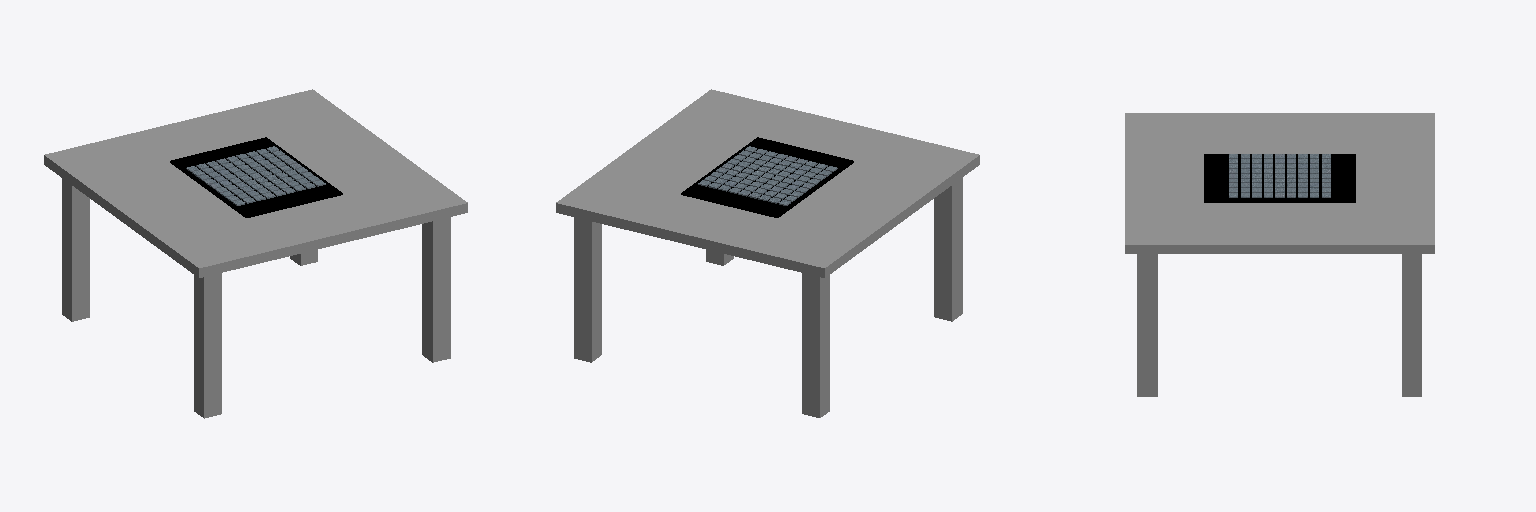
The picture shows the model from 3 angles: view 1: azimuth 30°, elevation 25°; view 2: azimuth 150°, elevation 25°; view 3: azimuth 270°, elevation 25°; orthographic projection.
Parts seen in each view (by area): view 1: Mesh.164_ID1317, Untitled_ID1367, Mesh.167_ID1351, Mesh.166_ID1343, Mesh.163_ID1311, Mesh.165_ID1330; view 2: Mesh.164_ID1317, Mesh.166_ID1343, Mesh.168_ID1359, Mesh.167_ID1351, Mesh.163_ID1311; view 3: Mesh.164_ID1317, Mesh.163_ID1311, Untitled_ID1367, Mesh.168_ID1359.
Part boxes in pixels (x1,y1,x2,y2): Mesh.164_ID1317: (44, 89, 467, 277); Untitled_ID1367: (422, 217, 450, 362); Mesh.167_ID1351: (194, 273, 221, 418); Mesh.166_ID1343: (62, 178, 89, 321); Mesh.163_ID1311: (170, 137, 342, 217); Mesh.165_ID1330: (199, 203, 467, 277); Mesh.164_ID1317: (556, 89, 979, 277); Mesh.166_ID1343: (802, 273, 829, 417); Mesh.168_ID1359: (574, 217, 601, 362); Mesh.167_ID1351: (934, 178, 962, 321); Mesh.163_ID1311: (681, 137, 853, 217); Mesh.164_ID1317: (1125, 113, 1434, 253); Mesh.163_ID1311: (1204, 154, 1355, 202); Untitled_ID1367: (1137, 254, 1157, 396); Mesh.168_ID1359: (1402, 254, 1421, 396).
Bounding box in the file's own units: 169 × 96.46 × 169.
Materials: 5 (1 with a texture image).